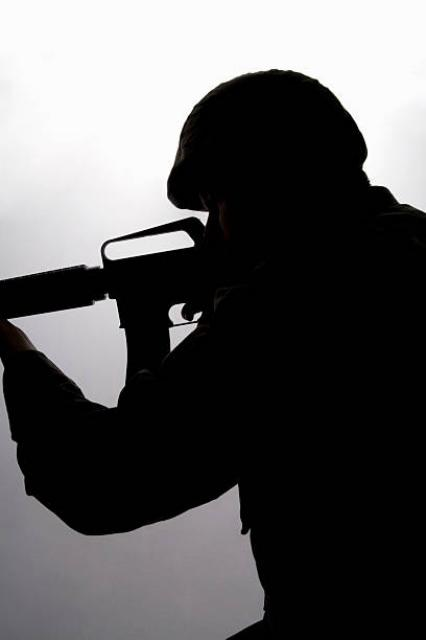other: (155, 73, 424, 639)
